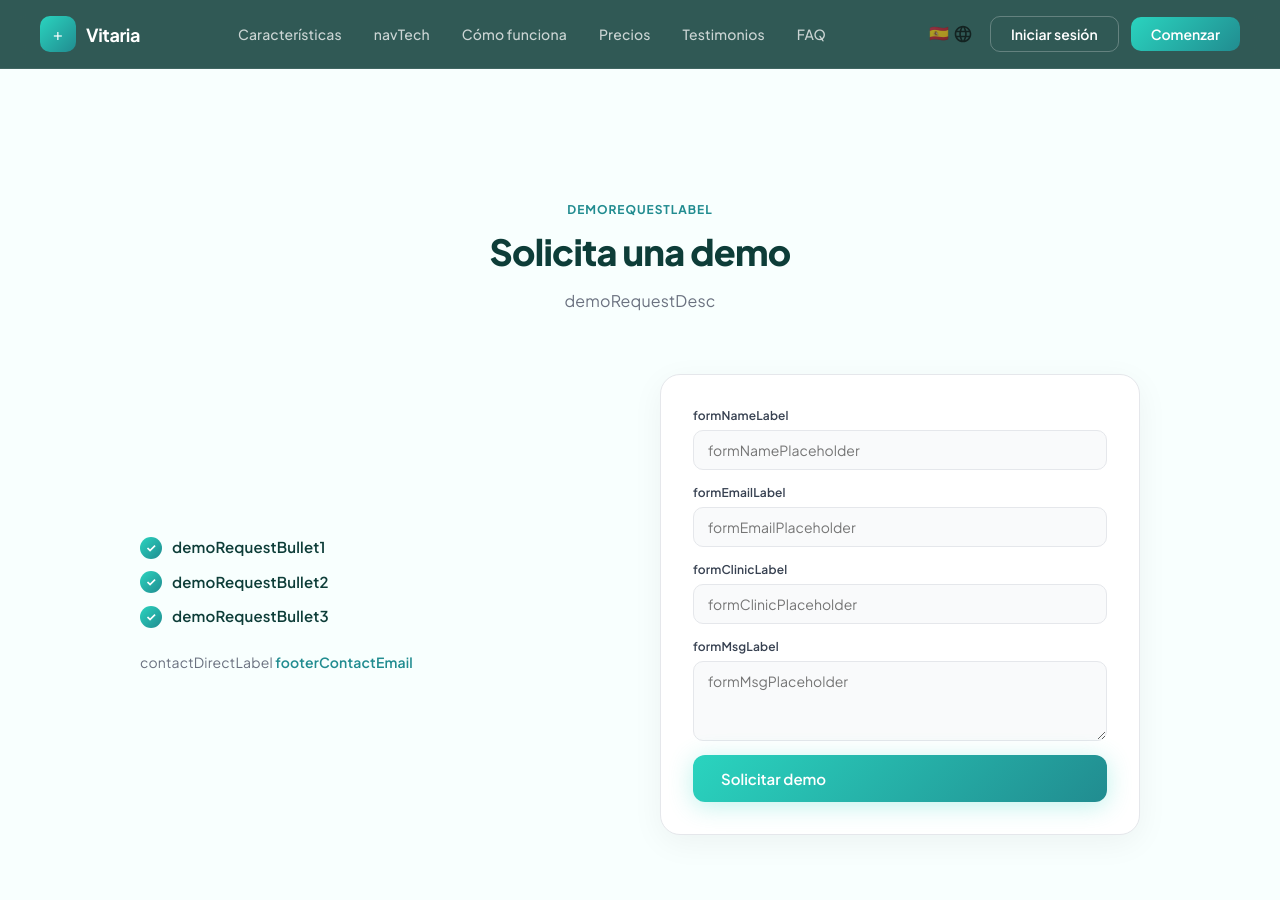
Test: LandingPage › renders the demo request form and shows success on submit
(page scrolled)
Expected: the heading "Solicita una demo" is shown, [490,229,790,274]
Type "Ana" into the field labelled "formNameLabel" at (900, 450), box [693,430,1107,470]
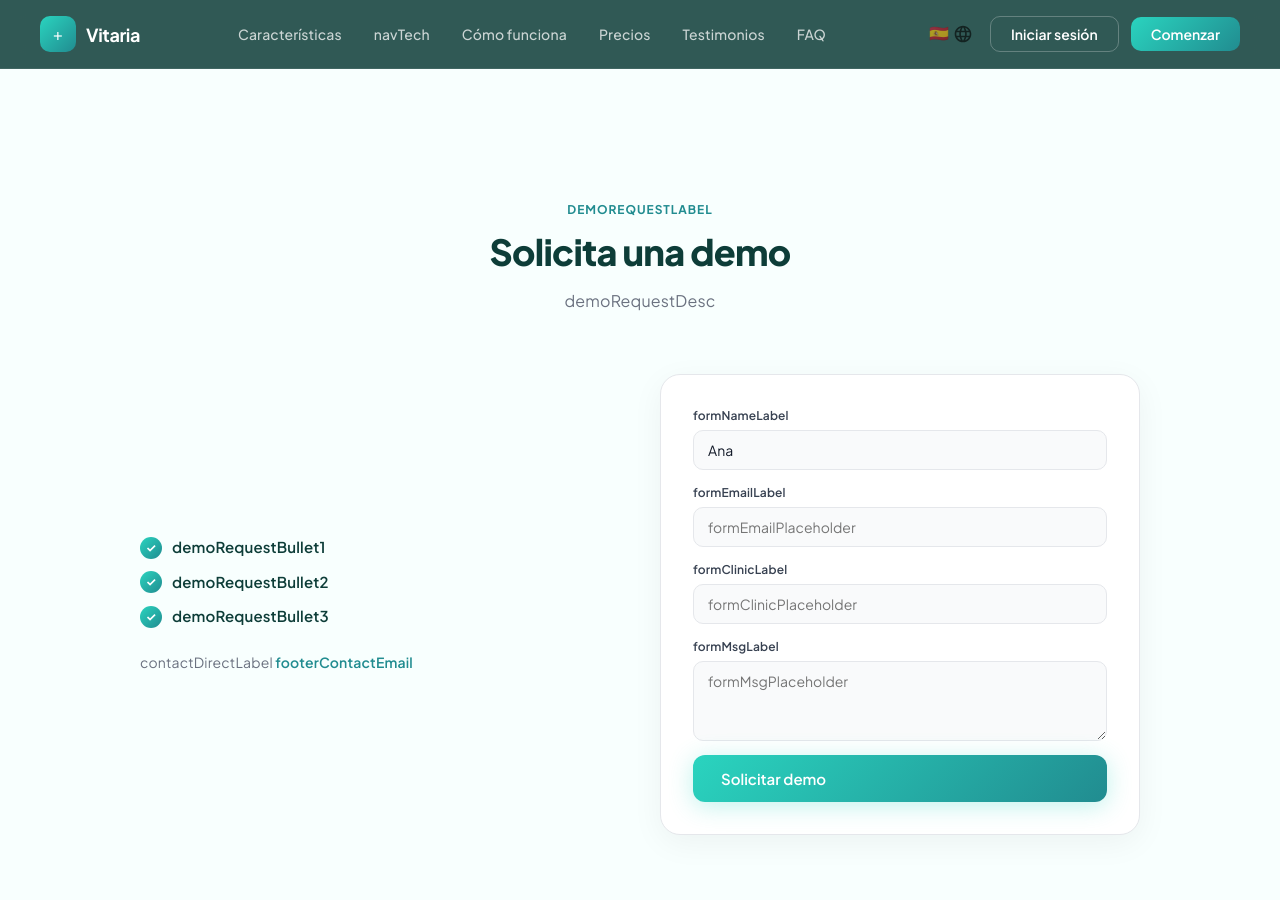
Type "test@test.com" into the field labelled "formEmailLabel" at (900, 527), box [693,507,1107,547]
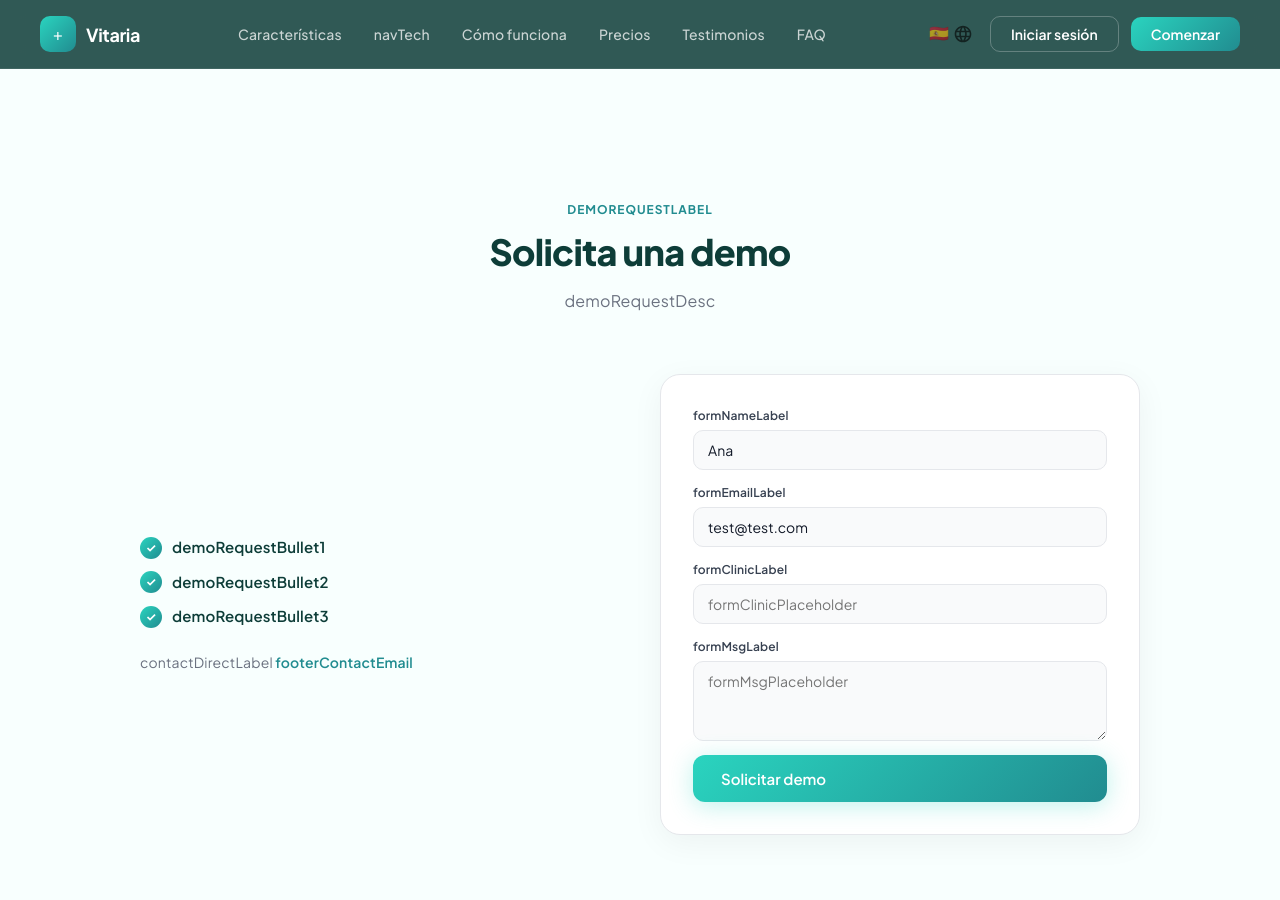
Click the button "Solicitar demo" at (774, 779), box [693,755,1107,802]
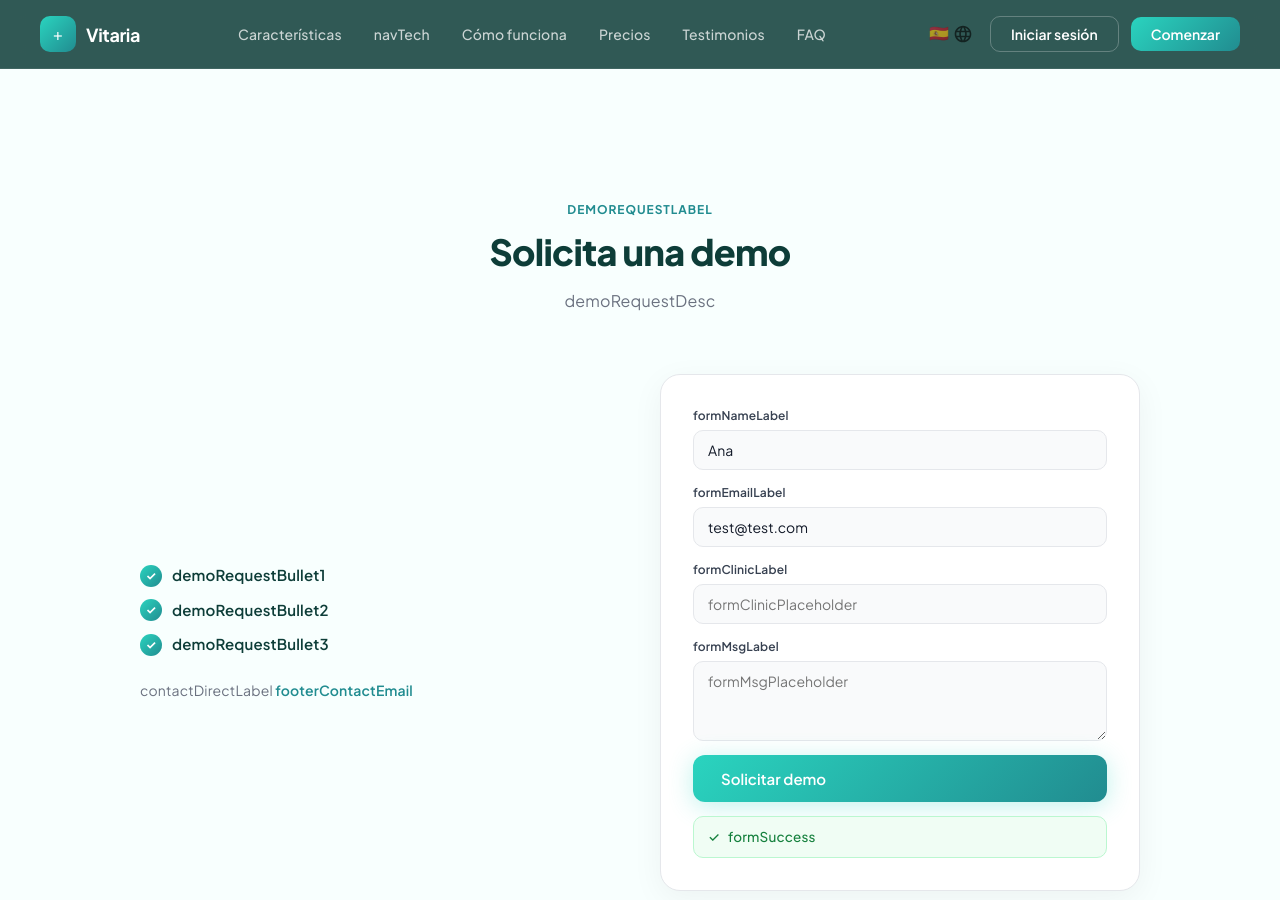
Expected: the element with class "lp-contact-success" is shown, [693,816,1107,858]
